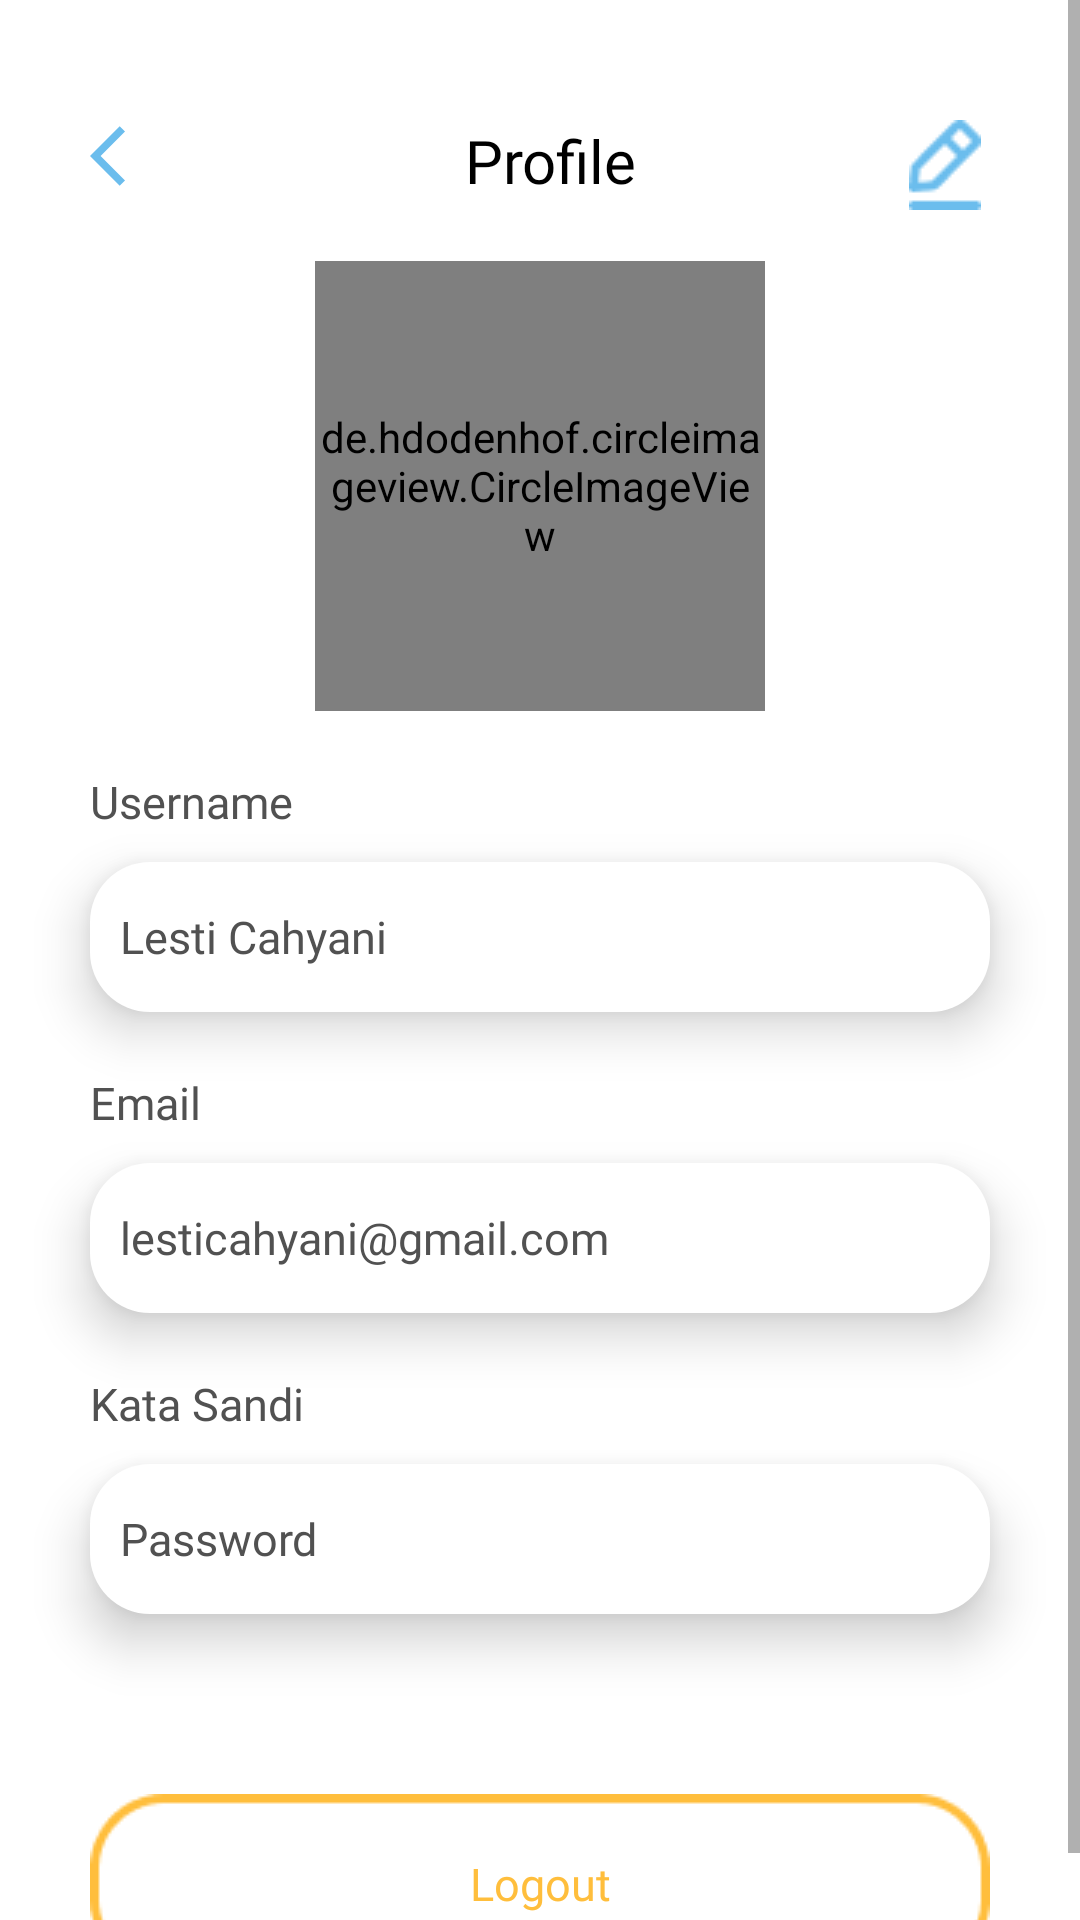

Icons on this 1080px×1920px Android screen, each with its box as (x1, y1, x2, y2):
arrowback: (90, 126, 125, 186)
edit: (909, 120, 981, 210)
